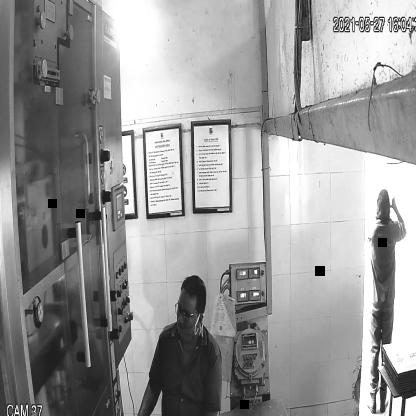goggles: (170, 300, 204, 326)
